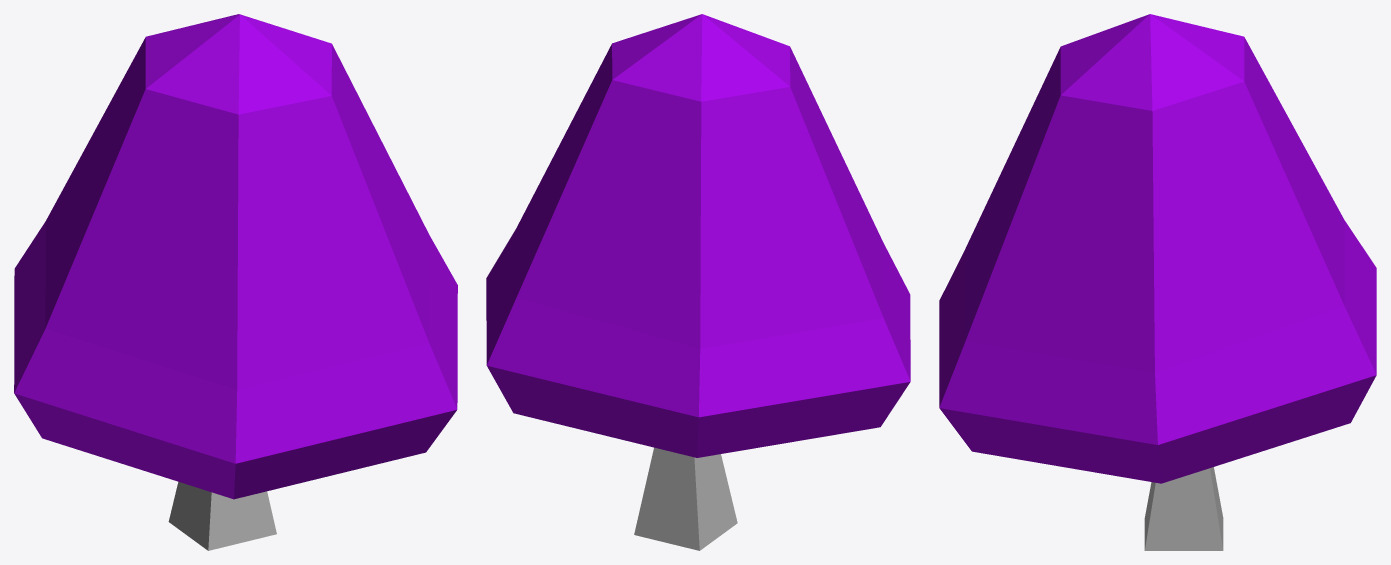
Rendered from Mushroom_Purple_FatUV.fbx.
3 renders of one model, left to right at view 1: azimuth 30°, elevation 25°; view 2: azimuth 150°, elevation 25°; view 3: azimuth 270°, elevation 25°, orthographic. The views are drawn at different scales.
Parts seen in each view (by area): view 1: Cube; view 2: Cube; view 3: Cube.
Boxes of the visible parts, x1=… form: Cube: x1=14, y1=14, x2=457, y2=550; Cube: x1=486, y1=14, x2=910, y2=550; Cube: x1=939, y1=14, x2=1376, y2=550.
Size of the model in its own units: 51.84 by 58.73 by 44.74.
